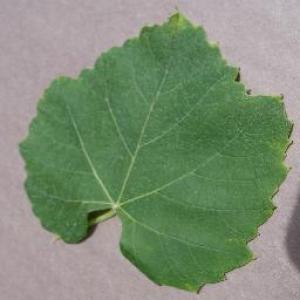Folha: (18, 6, 294, 294)
